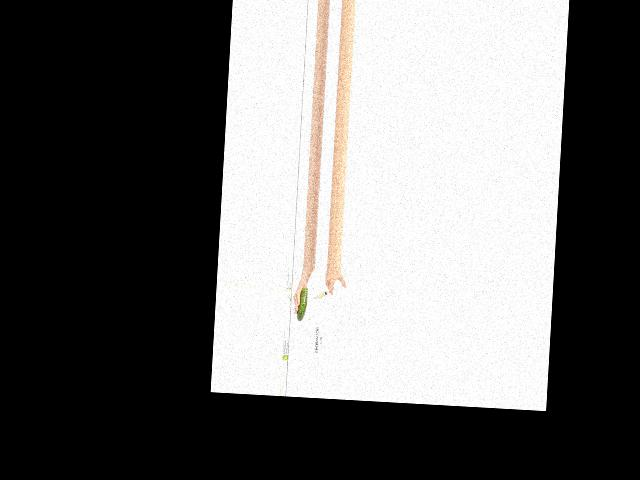cucumber: (296, 286, 307, 321)
